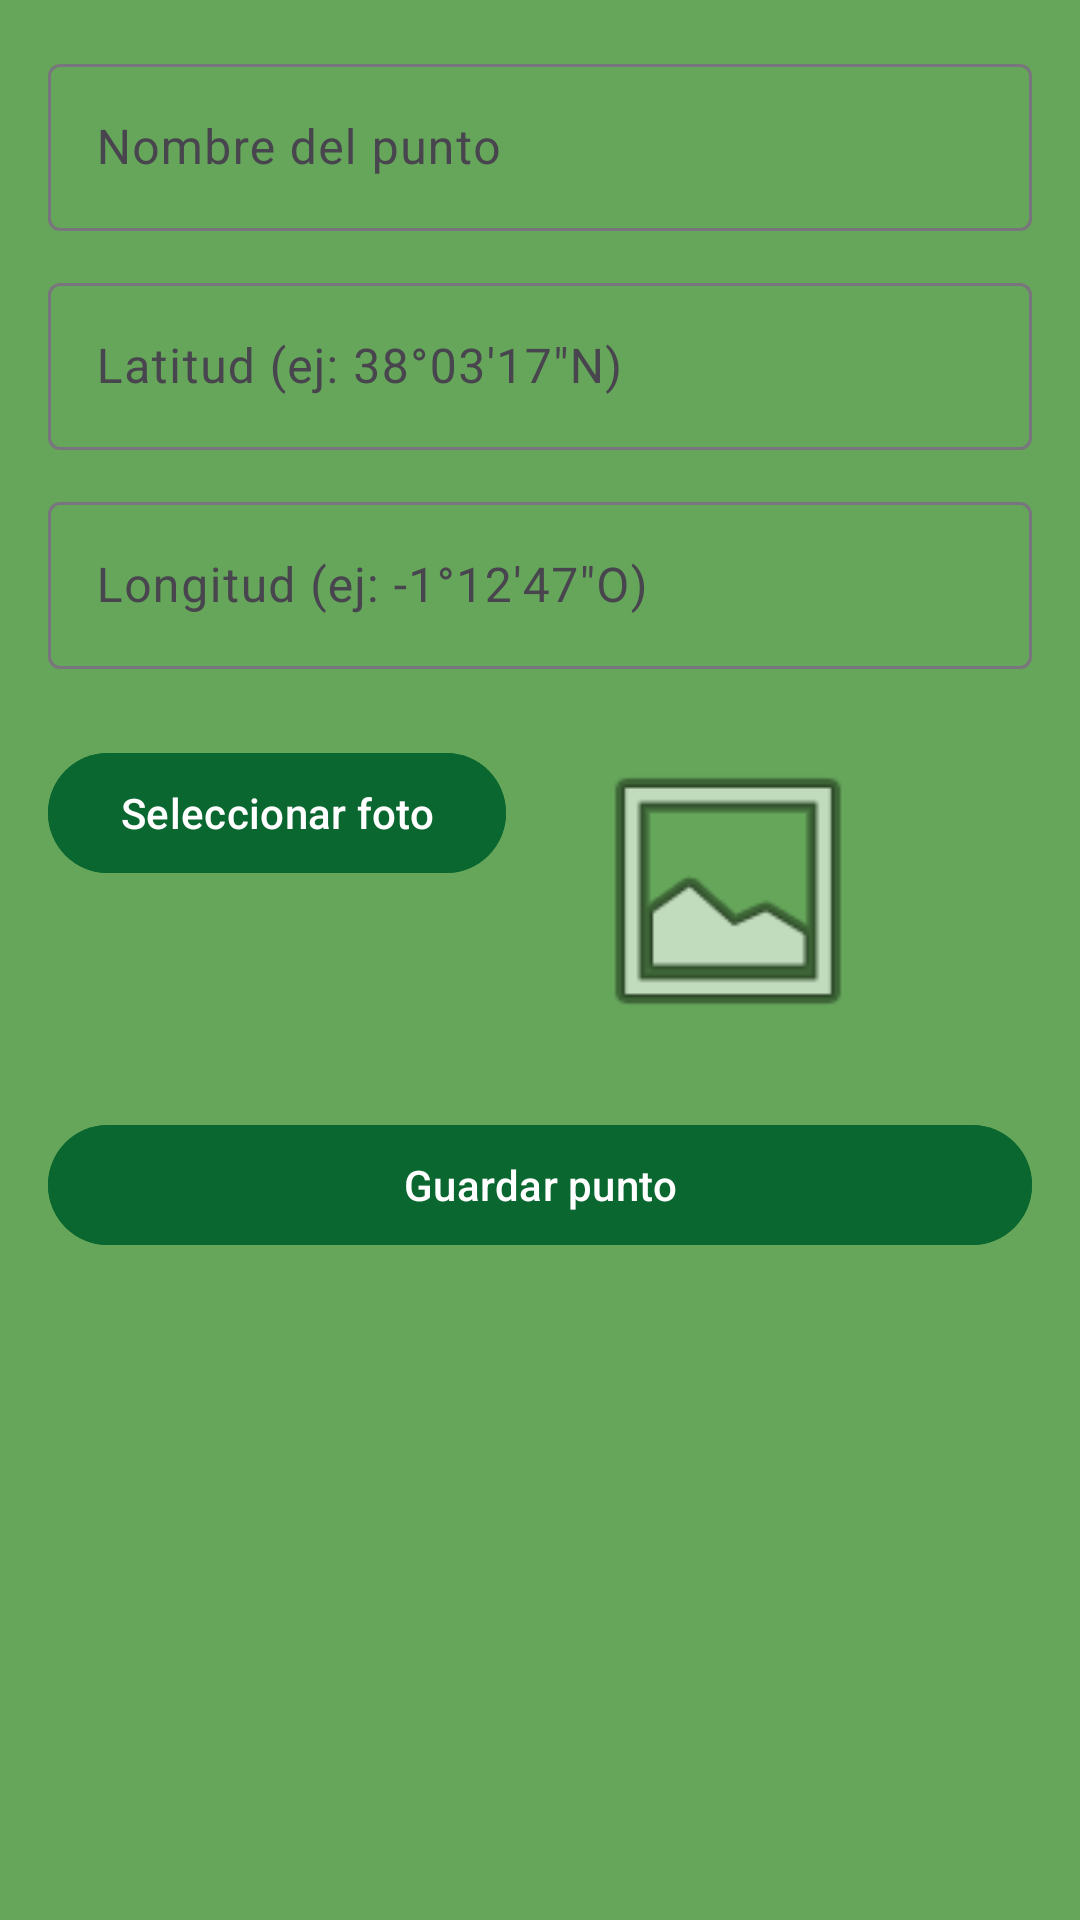

Named icons in this screenshot (1080w x 1920h) and their bounding boxes, (x1, y1, x2, y2):
Vista previa de la foto: (615, 778, 841, 1004)
